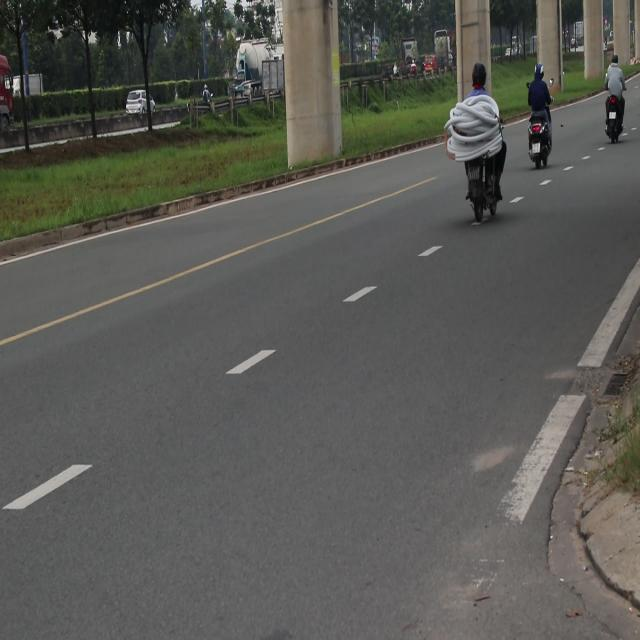car: (126, 90, 156, 114)
motorbike: (462, 141, 508, 223), (522, 114, 559, 176), (604, 98, 625, 153), (200, 73, 208, 124)
truck: (262, 61, 288, 102)
